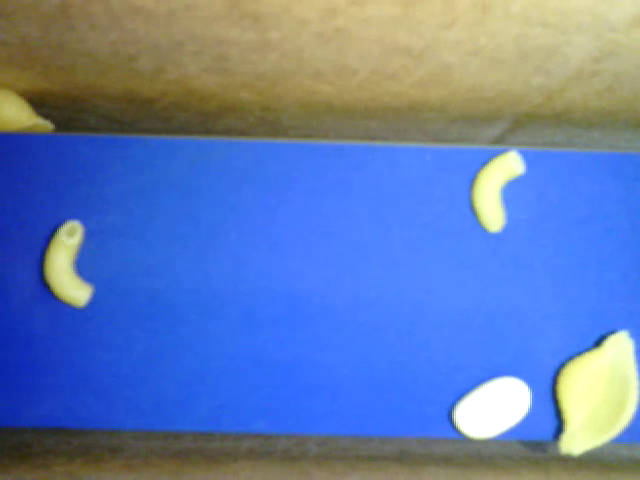elbow: (467, 146, 527, 235), (37, 217, 95, 309)
shell: (548, 326, 639, 458), (1, 85, 60, 134)
